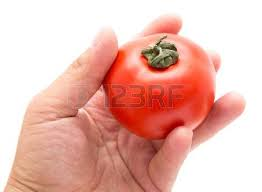tomato: (104, 33, 216, 139)
